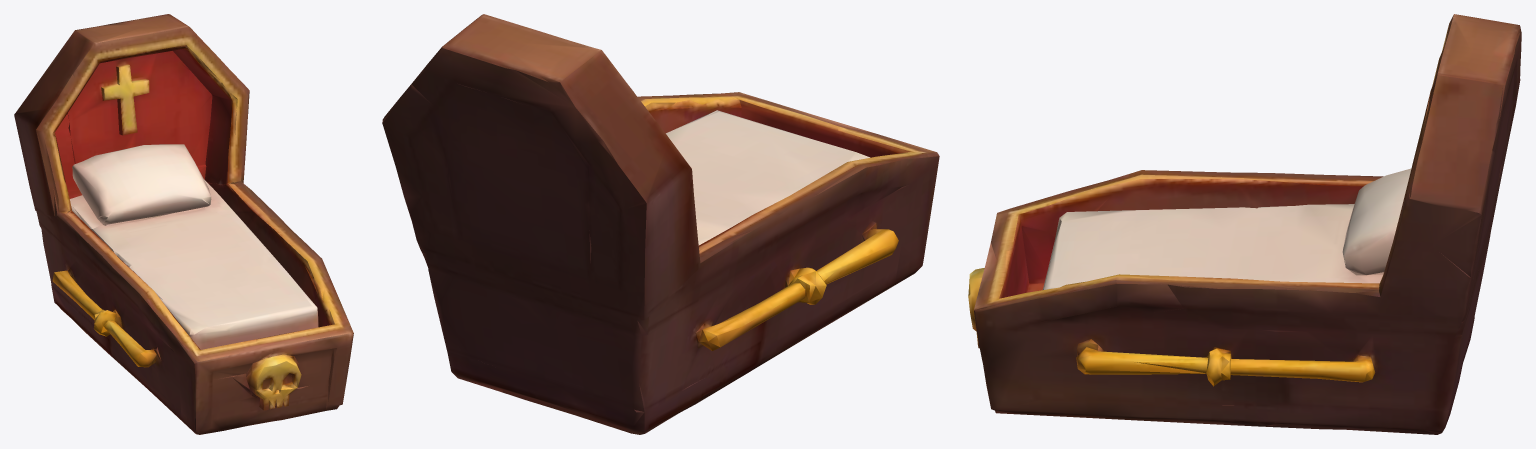
File: bed03.glb
3 views of the same model, side by side, from view 1: azimuth 30°, elevation 25°; view 2: azimuth 150°, elevation 25°; view 3: azimuth 270°, elevation 25° (orthographic). The views are drawn at different scales.
Bounding box in the file's own units: 0.2072 × 0.2297 × 0.323.
Materials: 1 (1 with a texture image).
